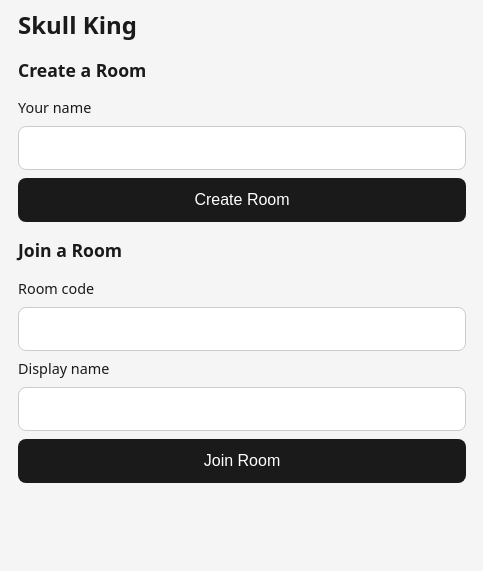
Test: App › shows an error and stays on the Home screen when joining is rejected
The image size is (483, 571).
Type "ABCD" into the field labelled "Room code" at {"x": 242, "y": 329}, box [18, 307, 466, 351]
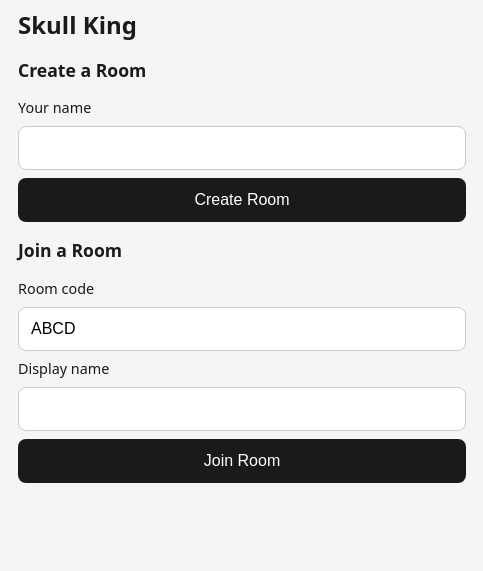
Type "Alice" into the field labelled "Display name" at {"x": 242, "y": 409}, box [18, 387, 466, 431]
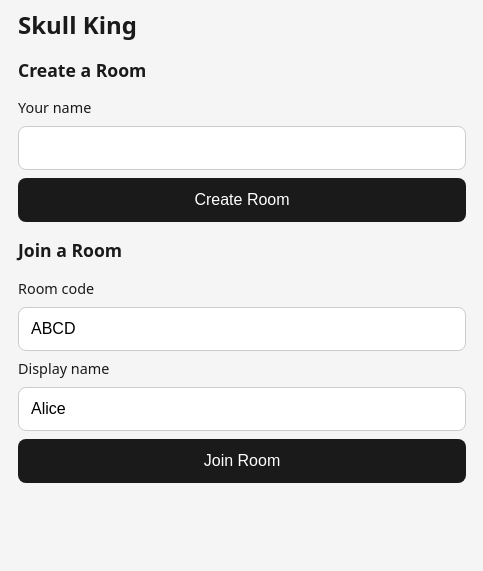
Click the button "Join Room" at {"x": 242, "y": 461}, box [18, 439, 466, 483]
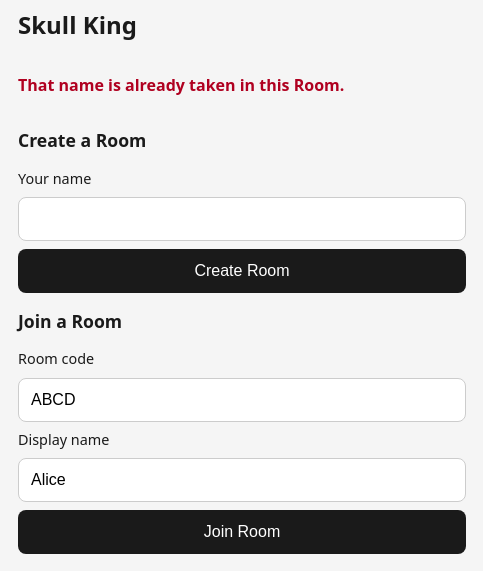
Expected: the heading "Join a Room" is shown, [18, 309, 122, 333]
Now the text "That name is already taken in this Room." is shown, box [18, 74, 344, 96]
